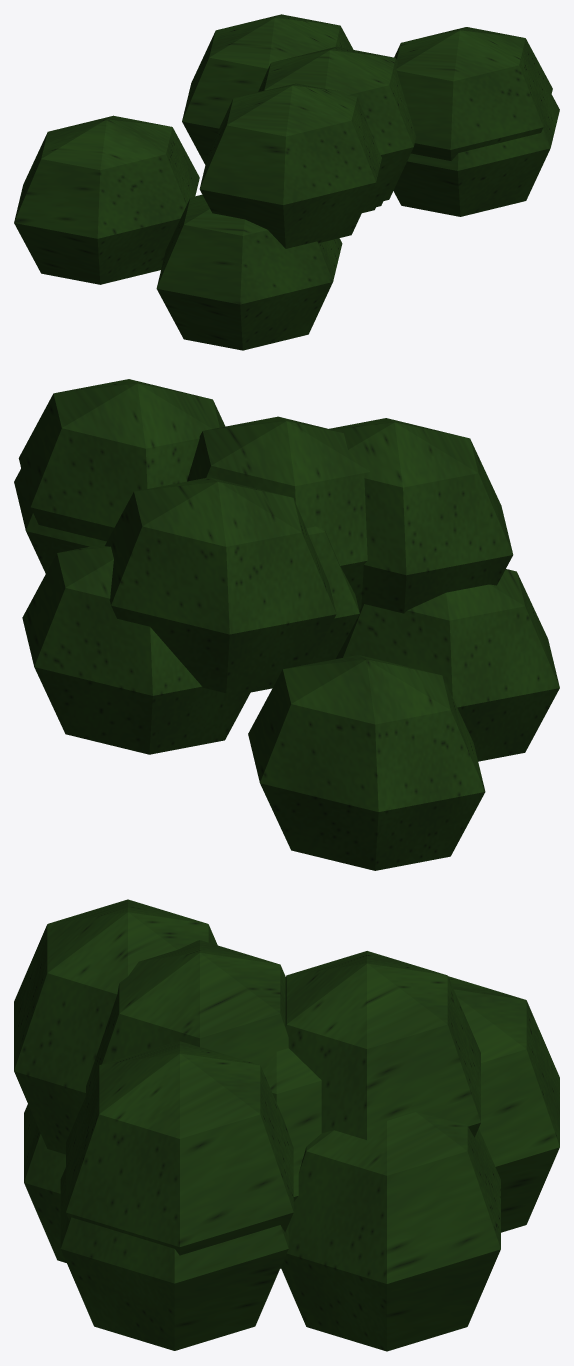
The model's file is PROP-E9BEBA3A5649_lod2.glb.
3 views of the same model, one above another, from view 1: azimuth 30°, elevation 25°; view 2: azimuth 150°, elevation 25°; view 3: azimuth 270°, elevation 25° (orthographic). The views are drawn at different scales.
Parts seen in each view (by area): view 1: foliage.010; view 2: foliage.010; view 3: foliage.010.
Boxes of the visible parts, x1,y1,x2,y2 form: foliage.010: (14, 14, 559, 350); foliage.010: (14, 379, 559, 870); foliage.010: (14, 899, 559, 1351).
Bounding box in the file's own units: 1.48 × 0.7944 × 0.9955.
1 material, 1 textured.
